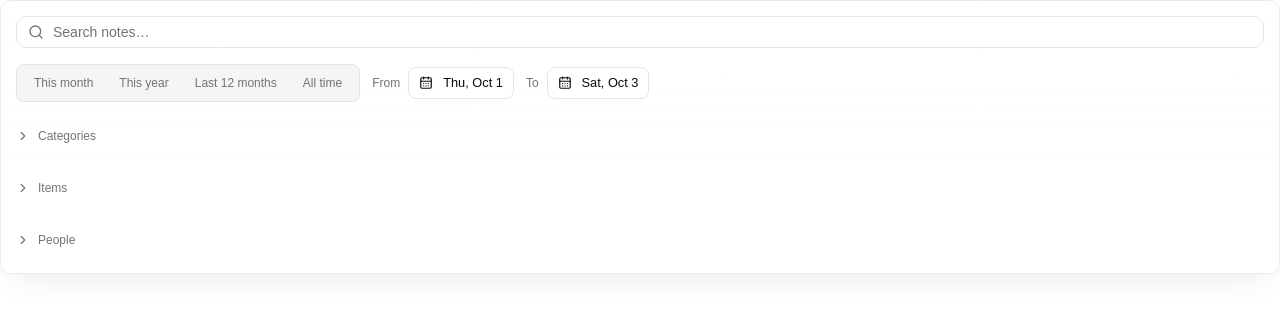
Test: Ledger filter sections › open independently of one another
Click the button "Items" at (23, 188), box left=16, top=170, right=1264, bottom=206
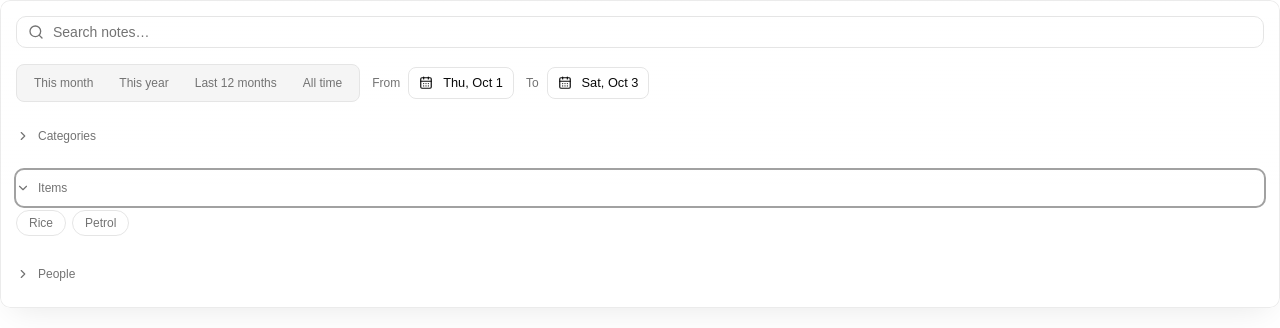
Check: the text "Rice" is shown, box left=29, top=215, right=53, bottom=231
